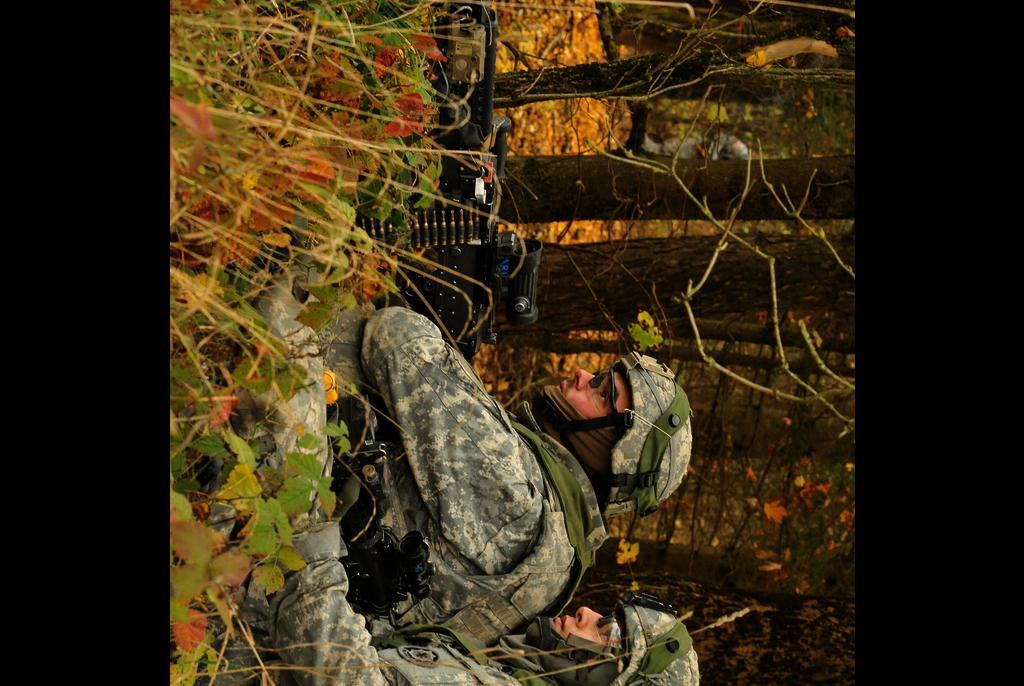gun: (372, 0, 542, 387)
